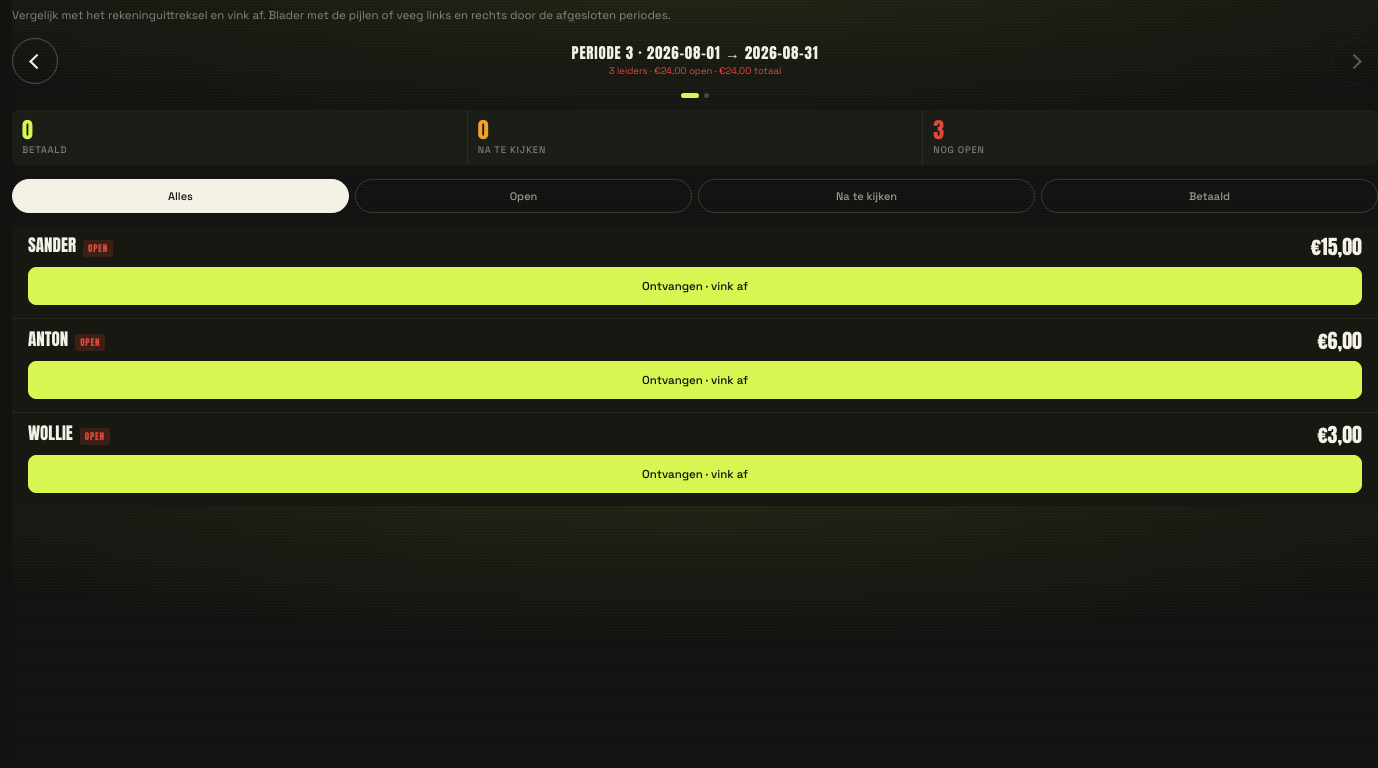
Scenario: AC1: swipe links/rechts wisselt van periode
The image size is (1378, 768).
Step 1. Press the mouse on the element that starts with "Sander" → (695, 366), box [12,225,1377,506]
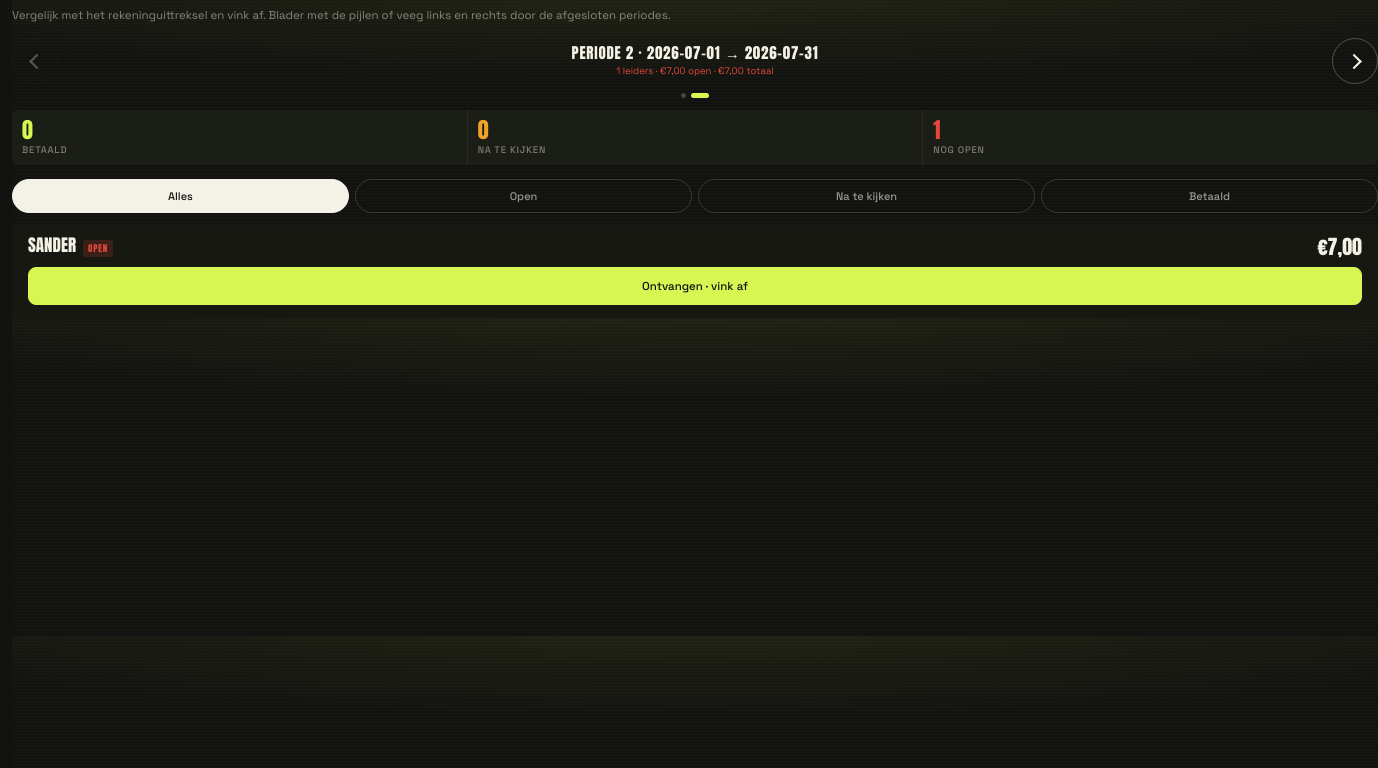
expect the text "PERIODE 2 · 2026-07-01 → 2026-07-31" is shown: met, box [572,41,818,64]
Step 2. Press the mouse on the element showing "Sander OPEN €7,00 Ontvangen · vink af" → (695, 272), box [12,225,1377,318]
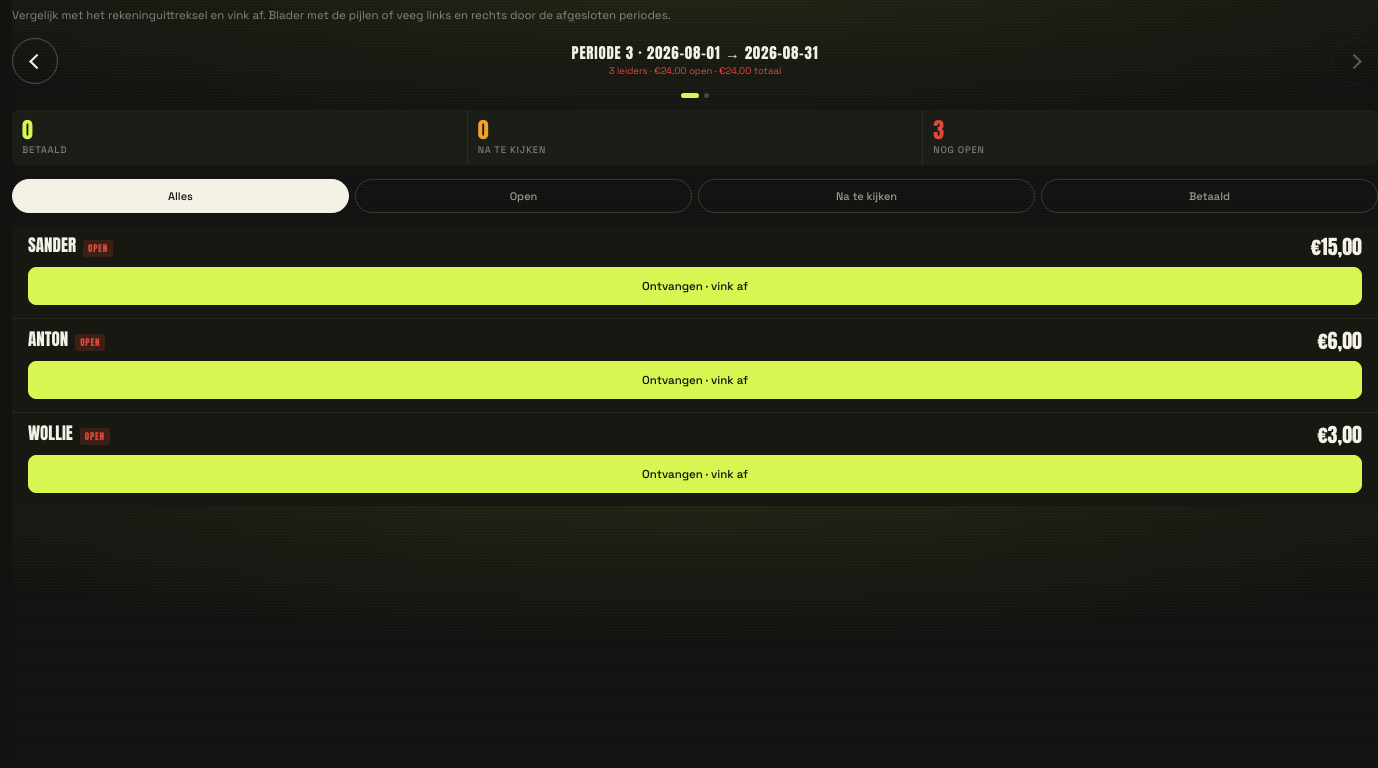
expect the text "PERIODE 3 · 2026-08-01 → 2026-08-31" is shown: met, box [572,41,818,64]
